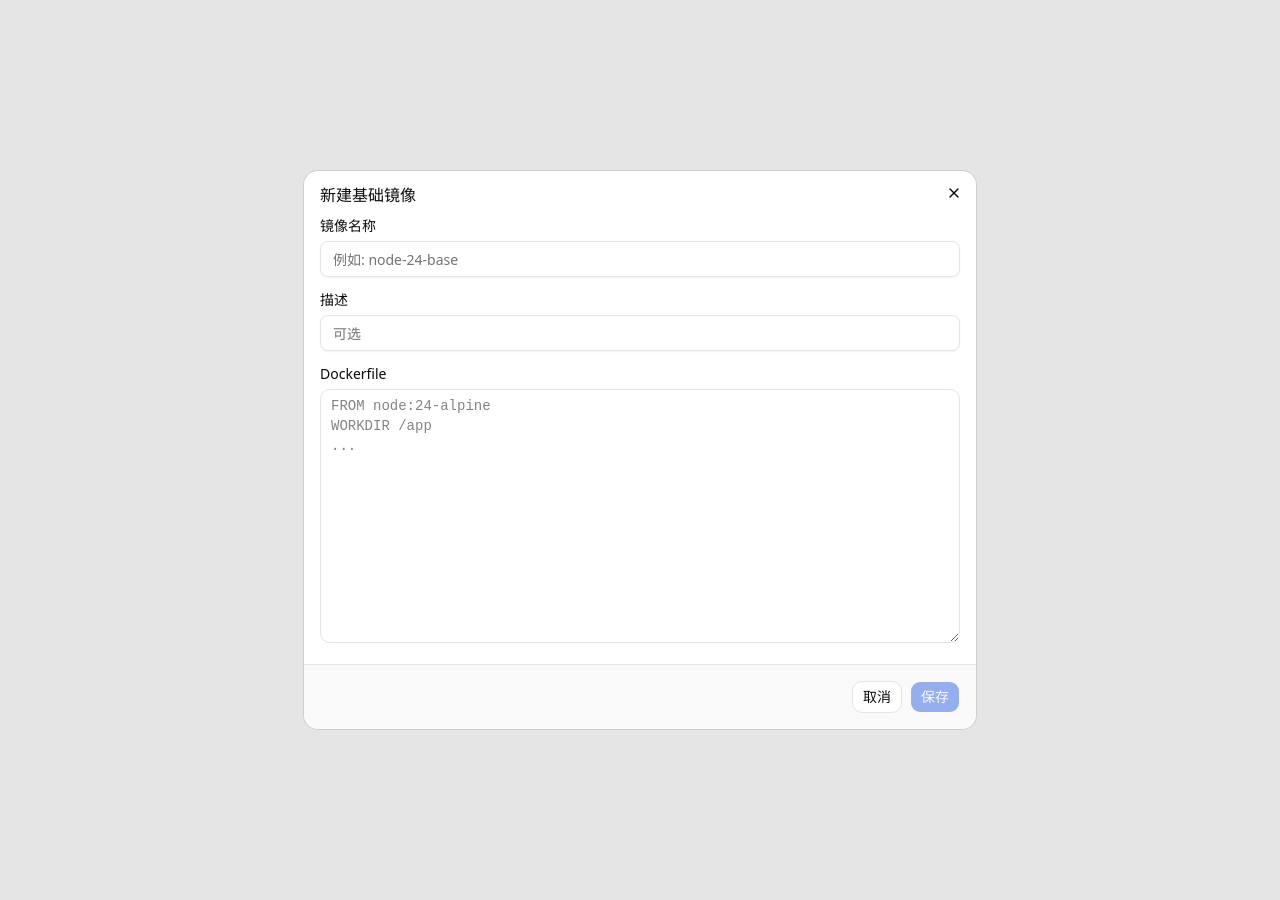
Test: BaseImageFormDialog › T-W4: disables save until name and dockerfile are provided
expect the button "保存" is disabled: met, box [910,681,960,713]
Type "node-base" into the field labelled "镜像名称". click: (640, 259)
box: [320,241,960,277]
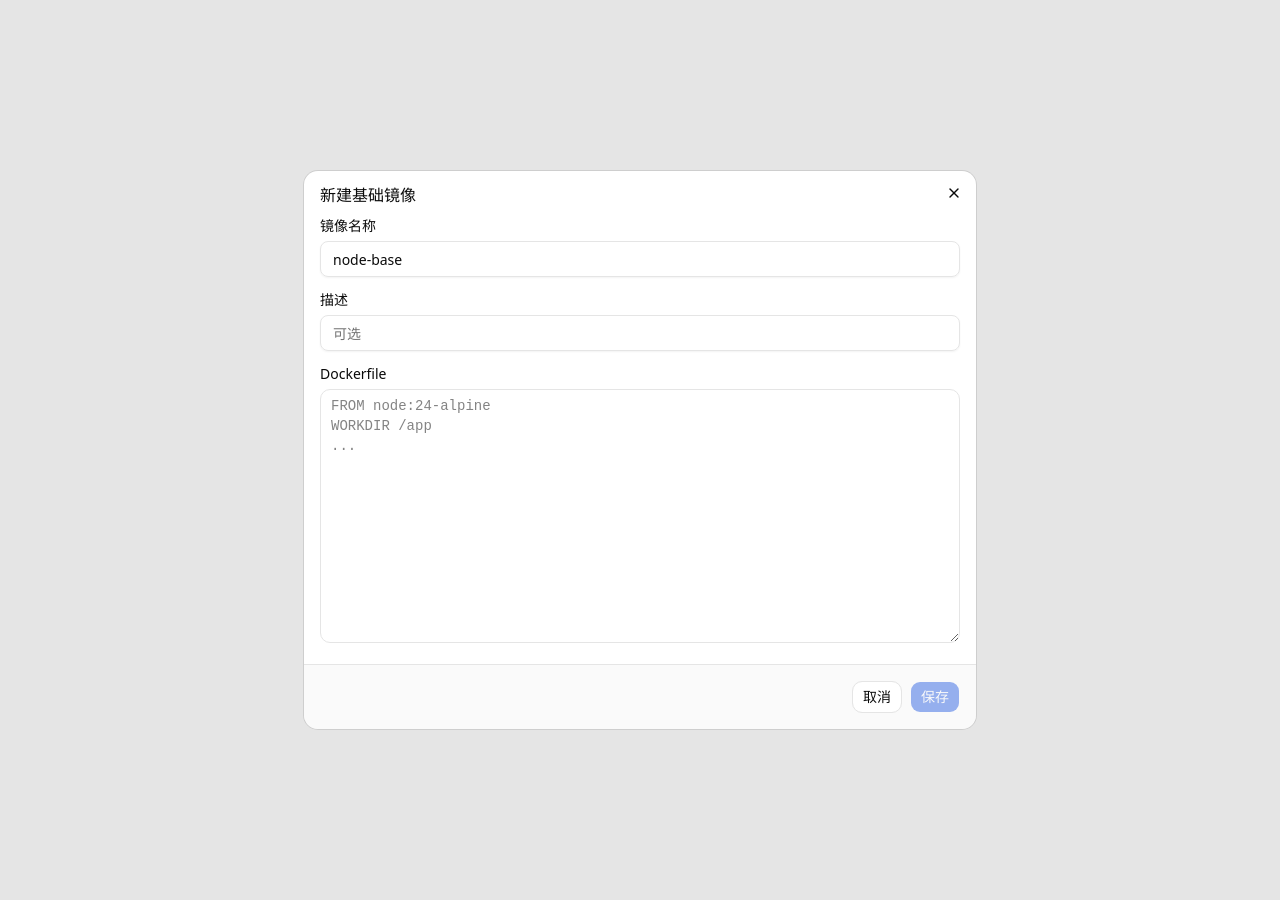
expect the button "保存" is disabled: met, box [910,681,960,713]
Type "FROM node" into the text box labelled "Dockerfile". click: (640, 516)
box: [320,389,960,643]
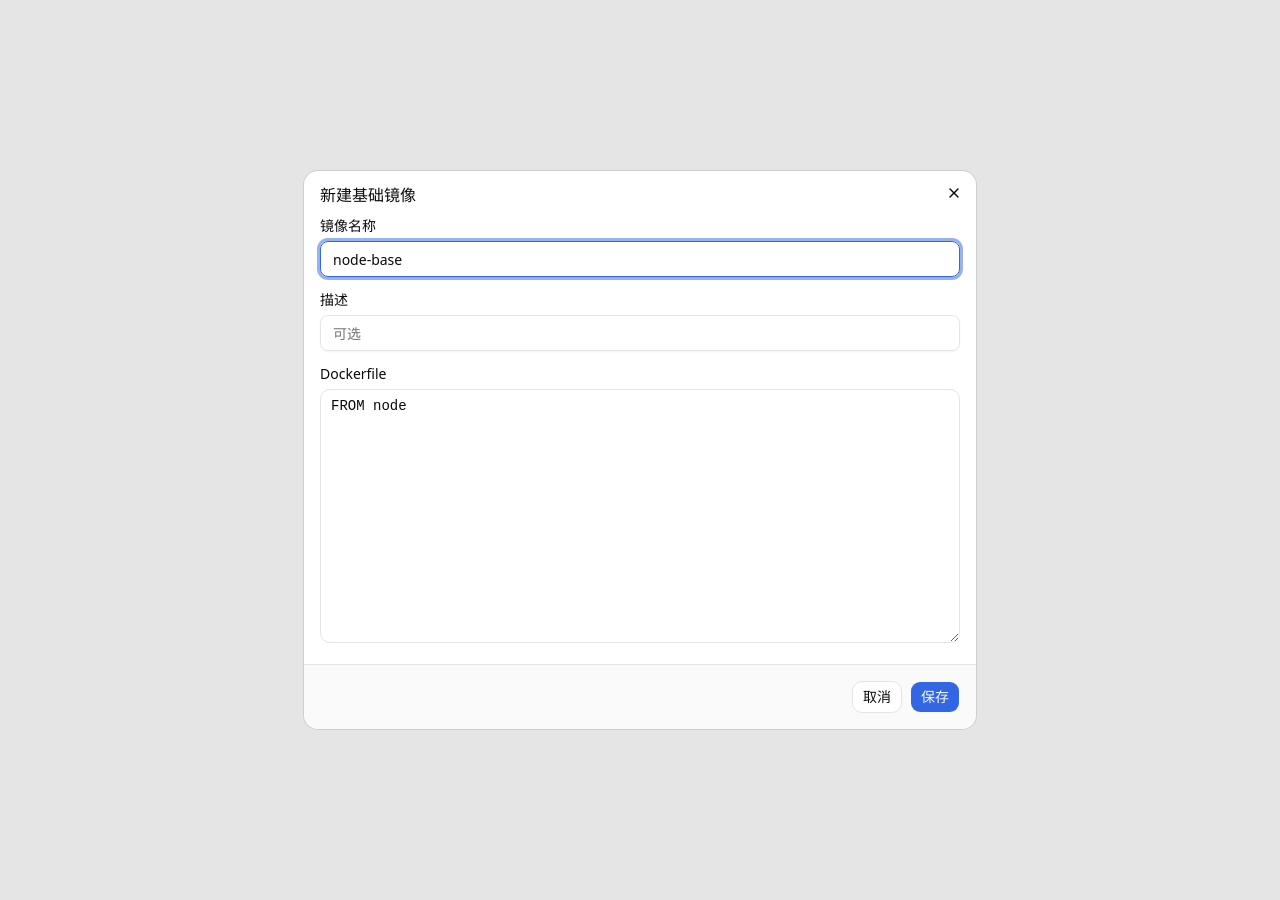
expect the button "保存" is enabled: met, box [910,681,960,713]
